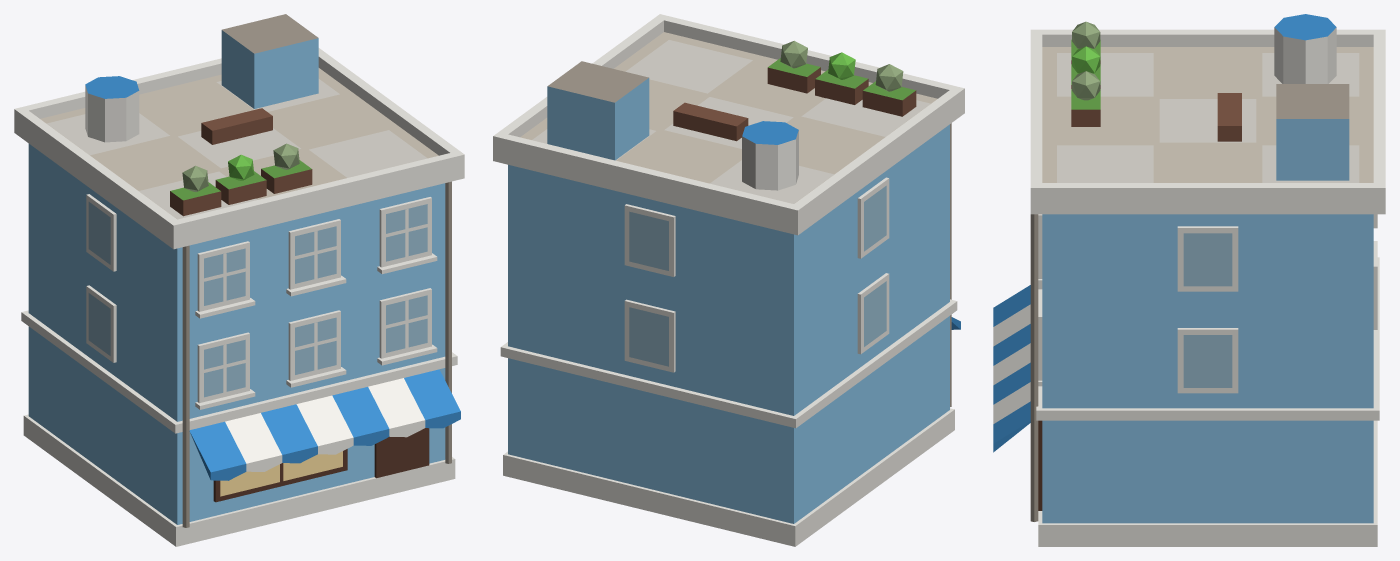
The model's file is B_AptBlue.fbx.
3 renders of one model, left to right at view 1: azimuth 30°, elevation 25°; view 2: azimuth 150°, elevation 25°; view 3: azimuth 270°, elevation 25°, orthographic. The views are drawn at different scales.
Visible parts, largest first — view 1: B_AptBlue; view 2: B_AptBlue; view 3: B_AptBlue.
Boxes of the visible parts, x1,y1,x2,y2 form: B_AptBlue: (14, 14, 464, 546); B_AptBlue: (493, 14, 964, 546); B_AptBlue: (993, 14, 1385, 546).
Size of the model in its own units: 3.84 by 4.66 by 4.02.
